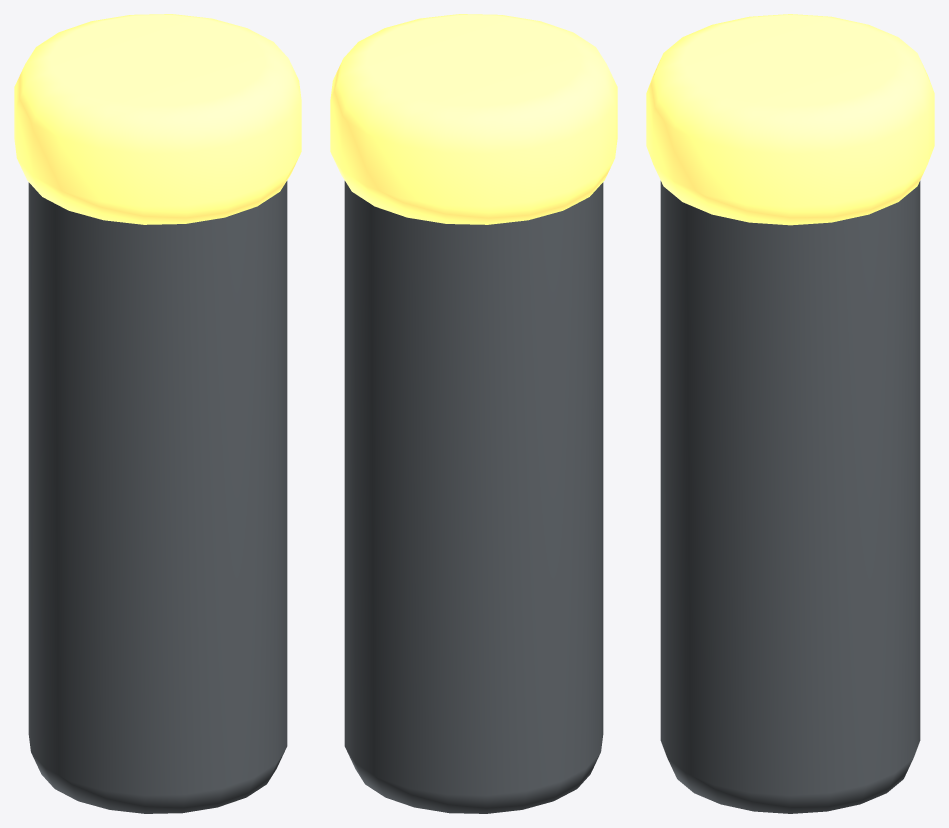
The model's file is ped_light_bollard_lod1_v2.glb.
3 views of the same model, side by side, from view 1: azimuth 30°, elevation 25°; view 2: azimuth 150°, elevation 25°; view 3: azimuth 270°, elevation 25° (orthographic).
Visible parts, largest first — view 1: LOD1_PED_LIGHT_BOLLARD_Post, LOD1_PED_LIGHT_BOLLARD_Glow; view 2: LOD1_PED_LIGHT_BOLLARD_Post, LOD1_PED_LIGHT_BOLLARD_Glow; view 3: LOD1_PED_LIGHT_BOLLARD_Post, LOD1_PED_LIGHT_BOLLARD_Glow.
Boxes of the visible parts, x1,y1,x2,y2 form: LOD1_PED_LIGHT_BOLLARD_Post: (28, 181, 287, 813); LOD1_PED_LIGHT_BOLLARD_Glow: (14, 14, 301, 224); LOD1_PED_LIGHT_BOLLARD_Post: (344, 181, 603, 813); LOD1_PED_LIGHT_BOLLARD_Glow: (330, 14, 617, 224); LOD1_PED_LIGHT_BOLLARD_Post: (660, 181, 920, 813); LOD1_PED_LIGHT_BOLLARD_Glow: (646, 14, 934, 225).
Size of what is drawn, in the model's own units: 0.4 by 1.09 by 0.4.
